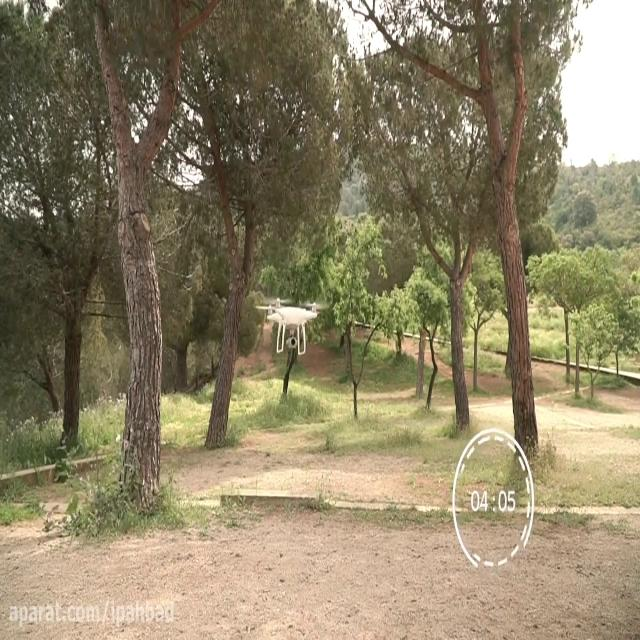drone: (251, 294, 332, 356)
